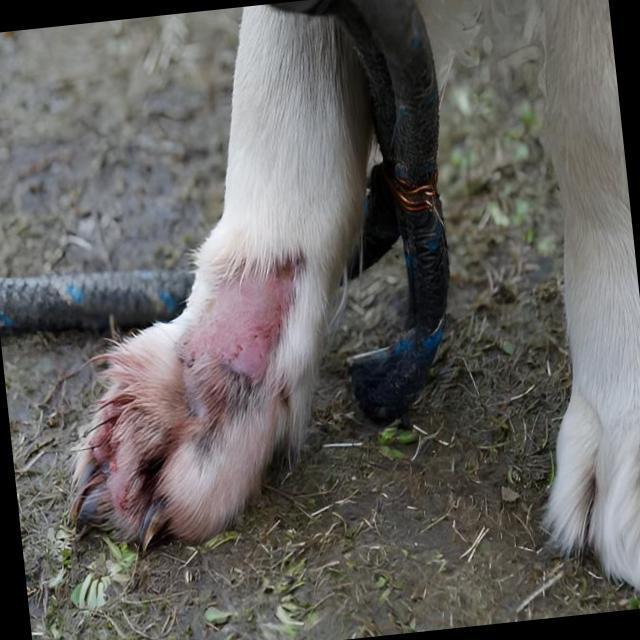allergic dermatitis: (178, 253, 292, 405)
